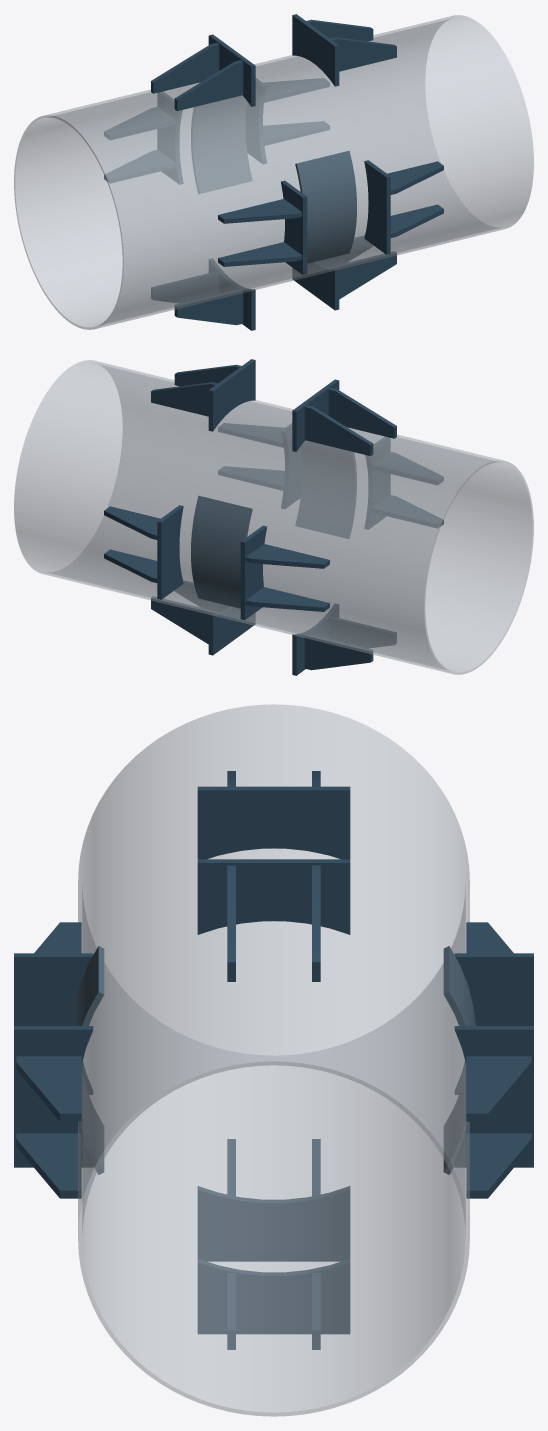
File: TS-668.00.00-07-opora-dn720-ris1.glb
3 views of the same model, one above another, from view 1: azimuth 30°, elevation 25°; view 2: azimuth 150°, elevation 25°; view 3: azimuth 270°, elevation 25° (orthographic). The views are drawn at different scales.
Visible parts, largest first — view 1: truba, bok_25, bok_26, upor_7, upor_1, upor_6, upor_5, upor_17, upor_10, upor_3, upor_14, upor_18 (+15 smaller); view 2: truba, bok_26, bok_25, upor_19, upor_1, upor_5, upor_6, upor_18, upor_22, upor_2, upor_15, upor_17 (+15 smaller); view 3: truba, upor_4, upor_16, upor_1, upor_13, upor_7, upor_19, upor_10, upor_22, upor_8, upor_21, upor_9 (+7 smaller).
Boxes of the visible parts, x1,y1,x2,y2 form: truba: (14, 15, 533, 329); bok_25: (295, 150, 356, 263); bok_26: (191, 96, 252, 193); upor_7: (364, 160, 390, 254); upor_1: (292, 14, 339, 86); upor_6: (174, 60, 243, 111); upor_5: (151, 43, 219, 93); upor_17: (174, 289, 243, 325); upor_10: (281, 180, 307, 274); upor_3: (330, 37, 396, 71); upor_14: (330, 251, 396, 299); upor_18: (151, 271, 218, 303); truba: (14, 360, 533, 674); bok_26: (191, 495, 252, 608); bok_25: (295, 441, 356, 538); upor_19: (157, 505, 183, 599); upor_1: (208, 359, 255, 431); upor_5: (304, 405, 373, 456); upor_6: (328, 388, 396, 438); upor_18: (304, 634, 373, 670); upor_22: (240, 525, 266, 619); upor_2: (151, 382, 217, 416); upor_15: (151, 596, 217, 644); upor_17: (329, 616, 396, 648); truba: (78, 704, 469, 1416); upor_4: (197, 786, 350, 859); upor_16: (197, 1186, 350, 1261); upor_1: (197, 859, 350, 934); upor_13: (197, 1259, 350, 1334); upor_7: (14, 1026, 93, 1167); upor_19: (454, 1026, 533, 1167); upor_10: (14, 953, 93, 1094); upor_22: (454, 953, 533, 1094); upor_8: (16, 1056, 81, 1121); upor_21: (466, 1056, 531, 1121); upor_9: (16, 1133, 81, 1198).
Size of the model in its own units: 1552 by 955 by 955.
